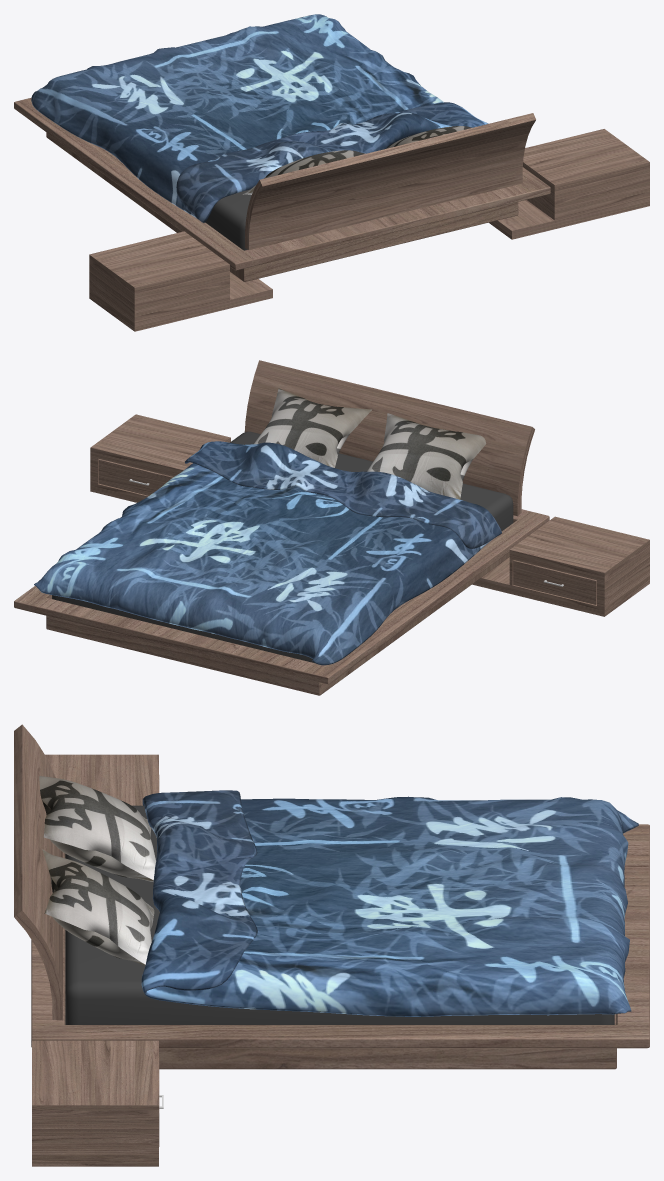
Rendered from futon_bed.glb.
3 views of the same model, one above another, from view 1: azimuth 30°, elevation 25°; view 2: azimuth 150°, elevation 25°; view 3: azimuth 270°, elevation 25° (orthographic). The views are drawn at different scales.
Visible parts, largest first — view 1: duvet_10, bed head_5, master bed_14, bed table left_7, bed table right_9, mattress_13, oreiller.001_12, oreiller_11; view 2: duvet_10, master bed_14, bed head_5, bed table left_7, oreiller.001_12, bed table right_9, oreiller_11, mattress_13, table de nuit 2.001_6, table de nuit 2.004_8; view 3: duvet_10, master bed_14, bed table right_9, mattress_13, bed head_5, oreiller.001_12, oreiller_11, bed table left_7.
Part boxes in pixels (box(x1,y1,x2,y2)): duvet_10: box(31, 14, 488, 222); bed head_5: box(245, 113, 535, 249); master bed_14: box(14, 97, 550, 281); bed table left_7: box(89, 231, 272, 331); bed table right_9: box(489, 129, 649, 239); mattress_13: box(205, 189, 251, 250); oreiller.001_12: box(242, 150, 365, 194); oreiller_11: box(386, 126, 471, 148); duvet_10: box(34, 441, 501, 665); master bed_14: box(14, 509, 549, 695); bed head_5: box(244, 360, 534, 516); bed table left_7: box(472, 516, 649, 616); oreiller.001_12: box(367, 413, 486, 499); bed table right_9: box(90, 414, 230, 502); oreiller_11: box(254, 388, 371, 467); mattress_13: box(52, 431, 513, 662); table de nuit 2.001_6: box(513, 560, 596, 604); table de nuit 2.004_8: box(98, 459, 173, 495); duvet_10: box(141, 790, 638, 1016); master bed_14: box(31, 824, 649, 1069); bed table right_9: box(32, 1040, 158, 1166); mattress_13: box(65, 805, 614, 1024); bed head_5: box(14, 724, 63, 1020); oreiller.001_12: box(39, 776, 156, 881); oreiller_11: box(42, 849, 154, 965); bed table left_7: box(45, 754, 158, 805).
Size of the model in its own units: 3 by 0.6964 by 2.3.
6 materials, 3 textured.
